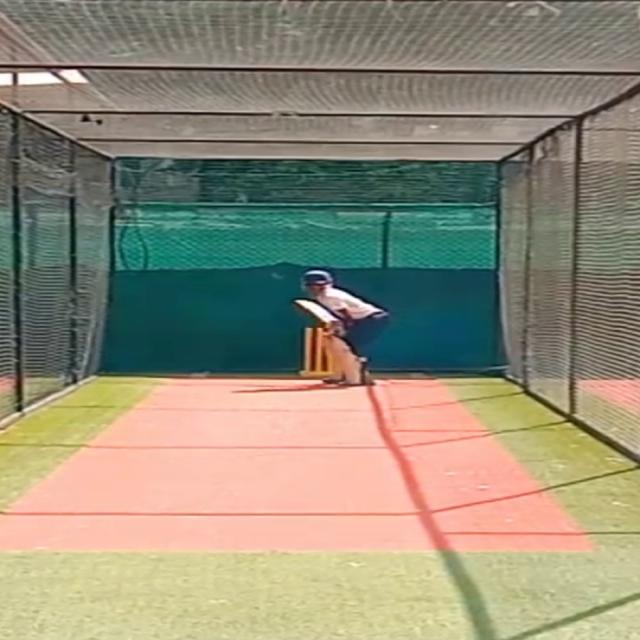stump: (298, 325, 324, 380)
